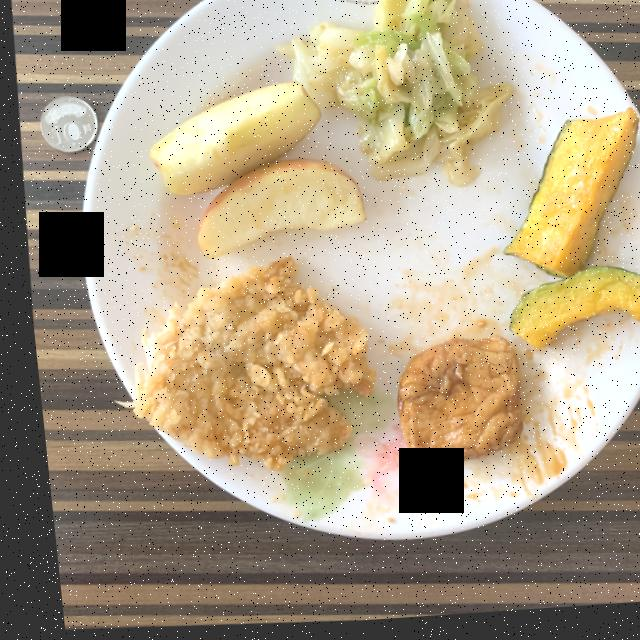apple -sliced-: (146, 84, 360, 259)
cabbage: (277, 0, 508, 192)
coin: (37, 96, 94, 152)
creamy tofu: (388, 341, 511, 466)
fried chicken cutlet: (114, 259, 366, 473)
pumpkin: (498, 115, 640, 354)
